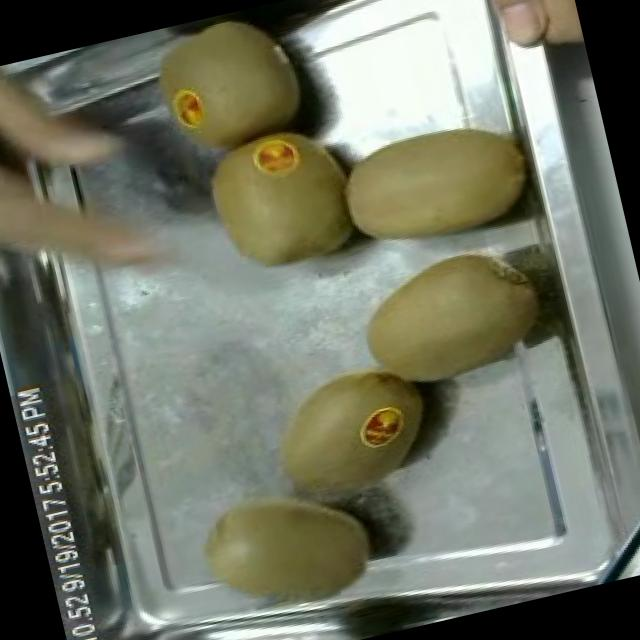Fruit: (316, 93, 548, 274), (342, 228, 564, 408), (179, 461, 397, 640), (250, 340, 450, 528), (185, 112, 382, 300), (132, 0, 324, 171), (458, 0, 590, 92)
